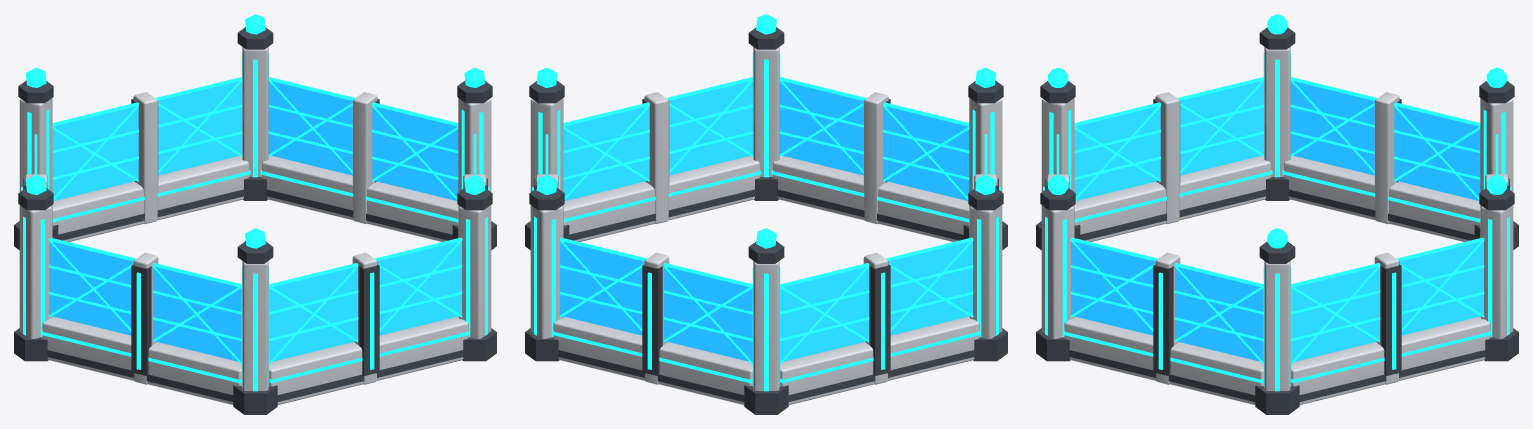
File: fort_l8.glb
3 views of the same model, side by side, from view 1: azimuth 30°, elevation 25°; view 2: azimuth 150°, elevation 25°; view 3: azimuth 270°, elevation 25° (orthographic).
Parts seen in each view (by area): view 1: fort_l8; view 2: fort_l8; view 3: fort_l8.
Part boxes in pixels (x1=…): fort_l8: x1=14, y1=14, x2=496, y2=414; fort_l8: x1=525, y1=14, x2=1007, y2=414; fort_l8: x1=1036, y1=14, x2=1518, y2=414.
Size of the model in its own units: 1.85 by 0.67 by 1.64.
3 materials, 1 textured.
